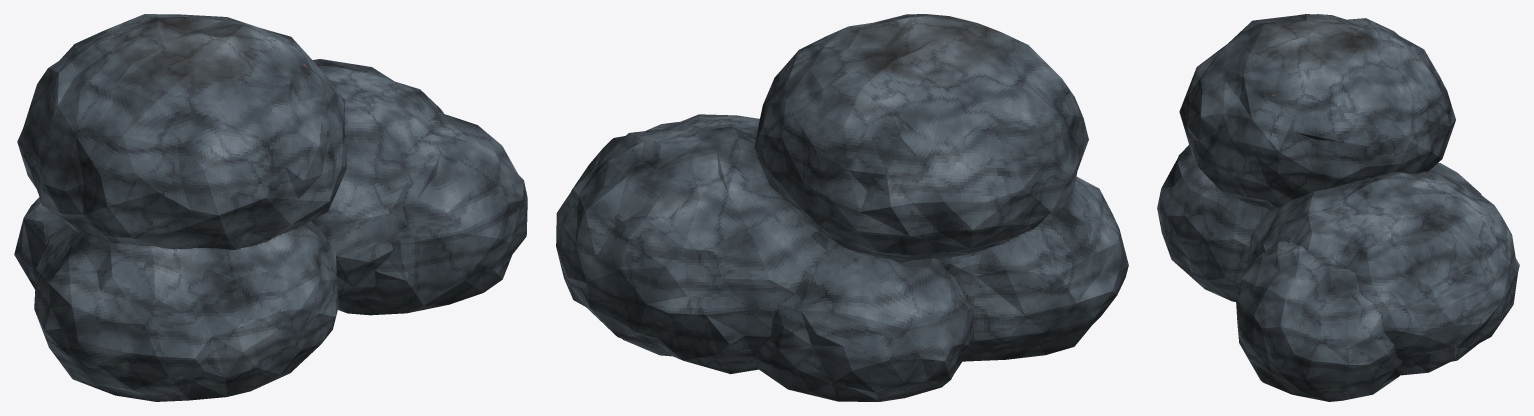
Rendered from snow_crag_c.glb.
The picture shows the model from 3 angles, left to right: view 1: azimuth 30°, elevation 25°; view 2: azimuth 150°, elevation 25°; view 3: azimuth 270°, elevation 25°; orthographic projection. The views are drawn at different scales.
Parts seen in each view (by area): view 1: snow_crag_c; view 2: snow_crag_c; view 3: snow_crag_c.
Boxes of the visible parts, bbox=[...] form: snow_crag_c: bbox=[14, 14, 527, 401]; snow_crag_c: bbox=[556, 14, 1128, 401]; snow_crag_c: bbox=[1157, 14, 1519, 401].
Size of the model in its own units: 3.92 by 2.21 by 2.96.
Materials: 1 (1 with a texture image).
